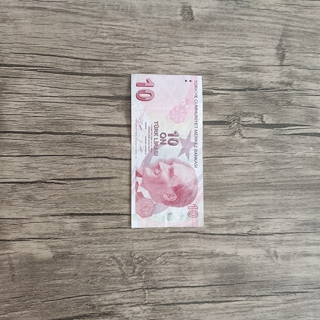10TLFront: (129, 72, 205, 228)
